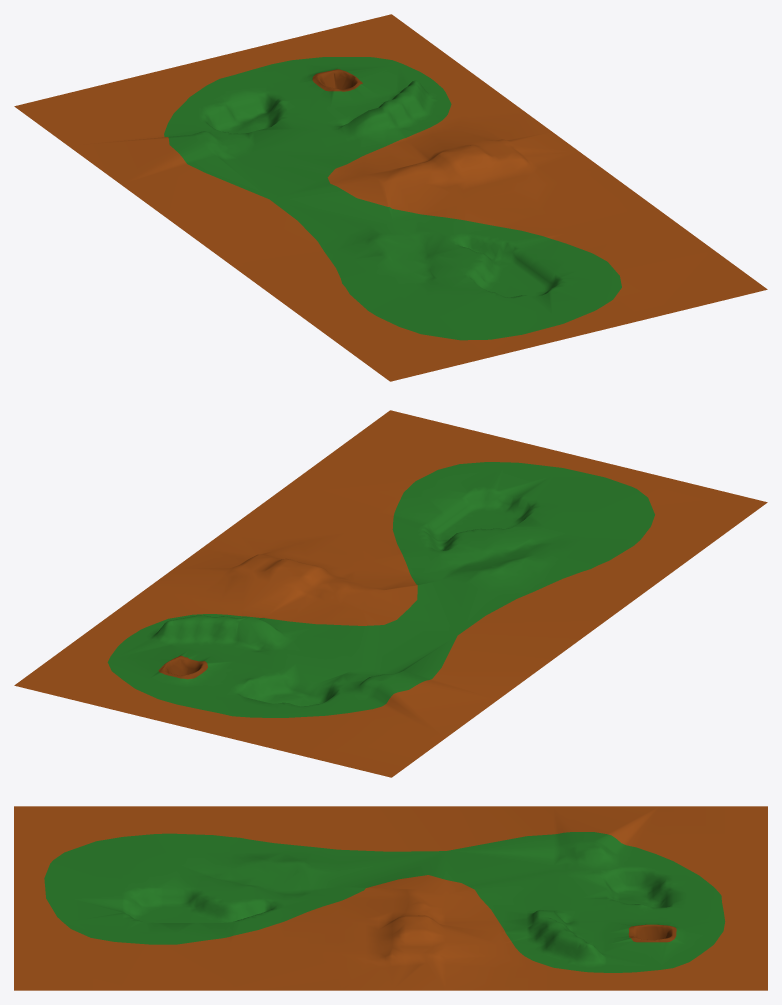
Rendered from HOLE-001-MAYA.fbx.
3 renders of one model, top to bottom at view 1: azimuth 30°, elevation 25°; view 2: azimuth 150°, elevation 25°; view 3: azimuth 270°, elevation 25°, orthographic.
Parts seen in each view (by area): view 1: hole002; view 2: hole002; view 3: hole002.
Boxes of the visible parts, bbox=[...] form: hole002: bbox=[14, 14, 767, 381]; hole002: bbox=[14, 410, 767, 777]; hole002: bbox=[14, 806, 767, 990].
Bounding box in the file's own units: 290 × 27.49 × 500.
